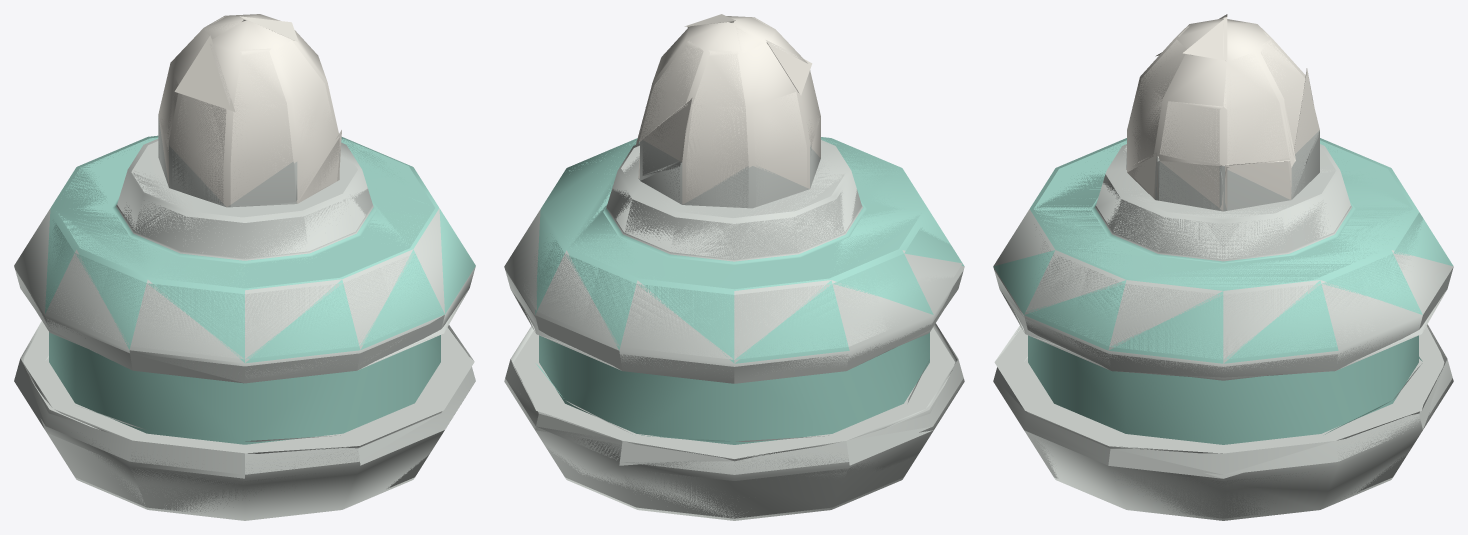
Rendered from tower-defense-kit__enemy-ufo-d.glb.
3 views of the same model, side by side, from view 1: azimuth 30°, elevation 25°; view 2: azimuth 150°, elevation 25°; view 3: azimuth 270°, elevation 25° (orthographic).
Visible parts, largest first — view 1: L0_metal, L0_accent, L1_metal, L1_accent, L1_ivory, L0_ivory; view 2: L0_metal, L1_metal, L1_accent, L0_accent, L0_ivory, L1_ivory; view 3: L1_metal, L0_metal, L0_accent, L1_accent, L0_ivory, L1_ivory.
Part boxes in pixels (x1,y1,x2,y2): L0_metal: [15, 121, 474, 511]; L0_accent: [47, 137, 442, 440]; L1_metal: [14, 116, 475, 520]; L1_accent: [45, 135, 475, 444]; L1_ivory: [158, 14, 339, 207]; L0_ivory: [160, 15, 341, 204]; L0_metal: [505, 140, 963, 518]; L1_metal: [504, 140, 964, 520]; L1_accent: [535, 137, 964, 444]; L0_accent: [535, 138, 962, 441]; L0_ivory: [635, 14, 819, 199]; L1_ivory: [640, 16, 820, 204]; L1_metal: [993, 130, 1453, 520]; L0_metal: [994, 132, 1452, 518]; L0_accent: [1026, 140, 1423, 444]; L1_accent: [993, 138, 1453, 444]; L0_ivory: [1126, 14, 1316, 210]; L1_ivory: [1127, 18, 1319, 210].
Bounding box in the file's own units: 1 × 1.01 × 1.
